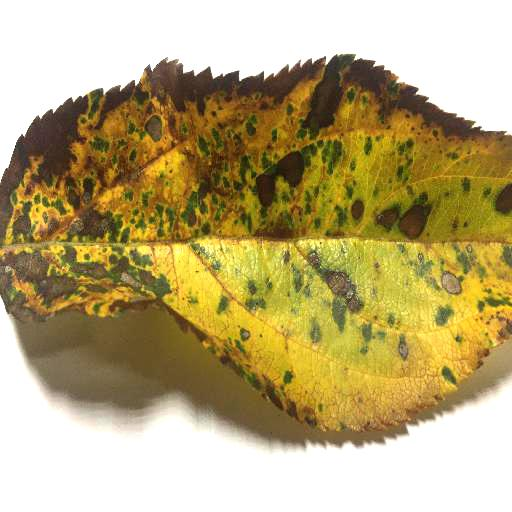Brown_Spot: (3, 32, 512, 456)
